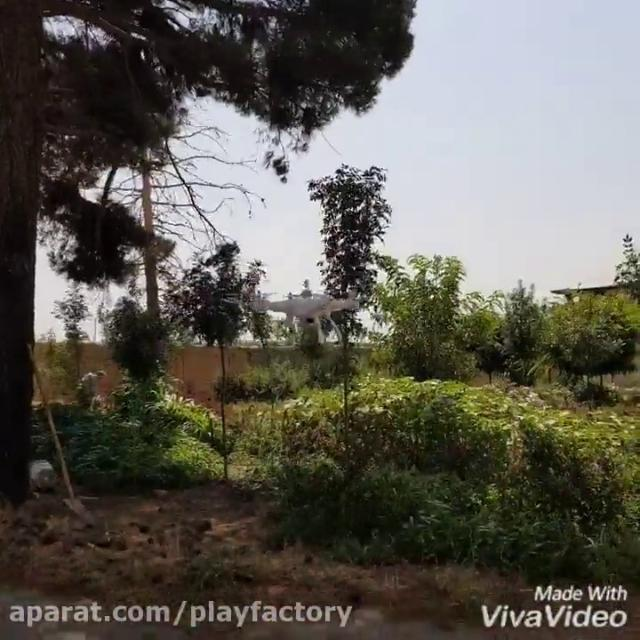drone: (228, 282, 366, 344)
